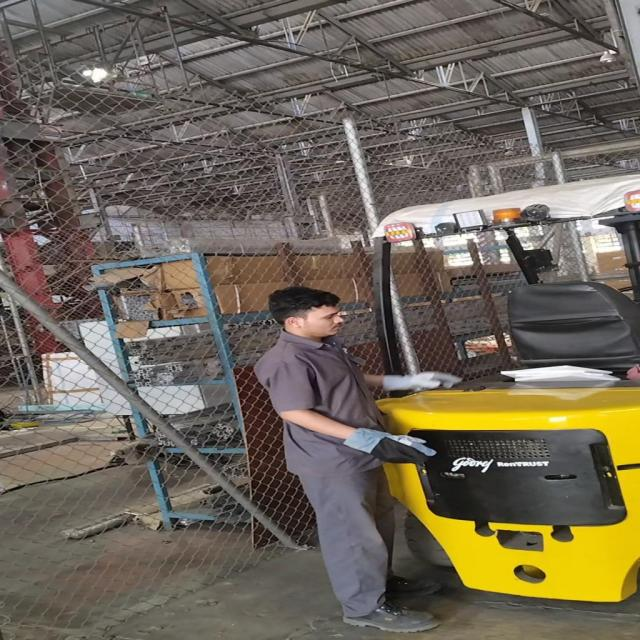Gloves-Detection: (352, 437, 432, 477), (368, 370, 450, 394)
